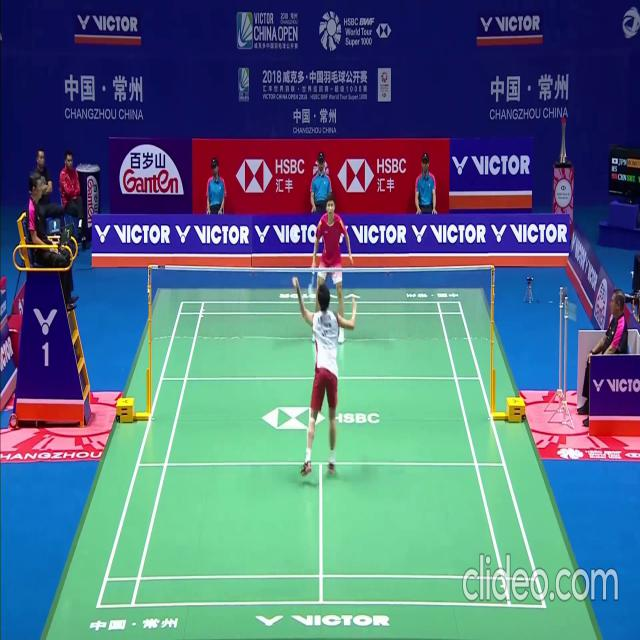Shuttlecock: (293, 230, 297, 237)
